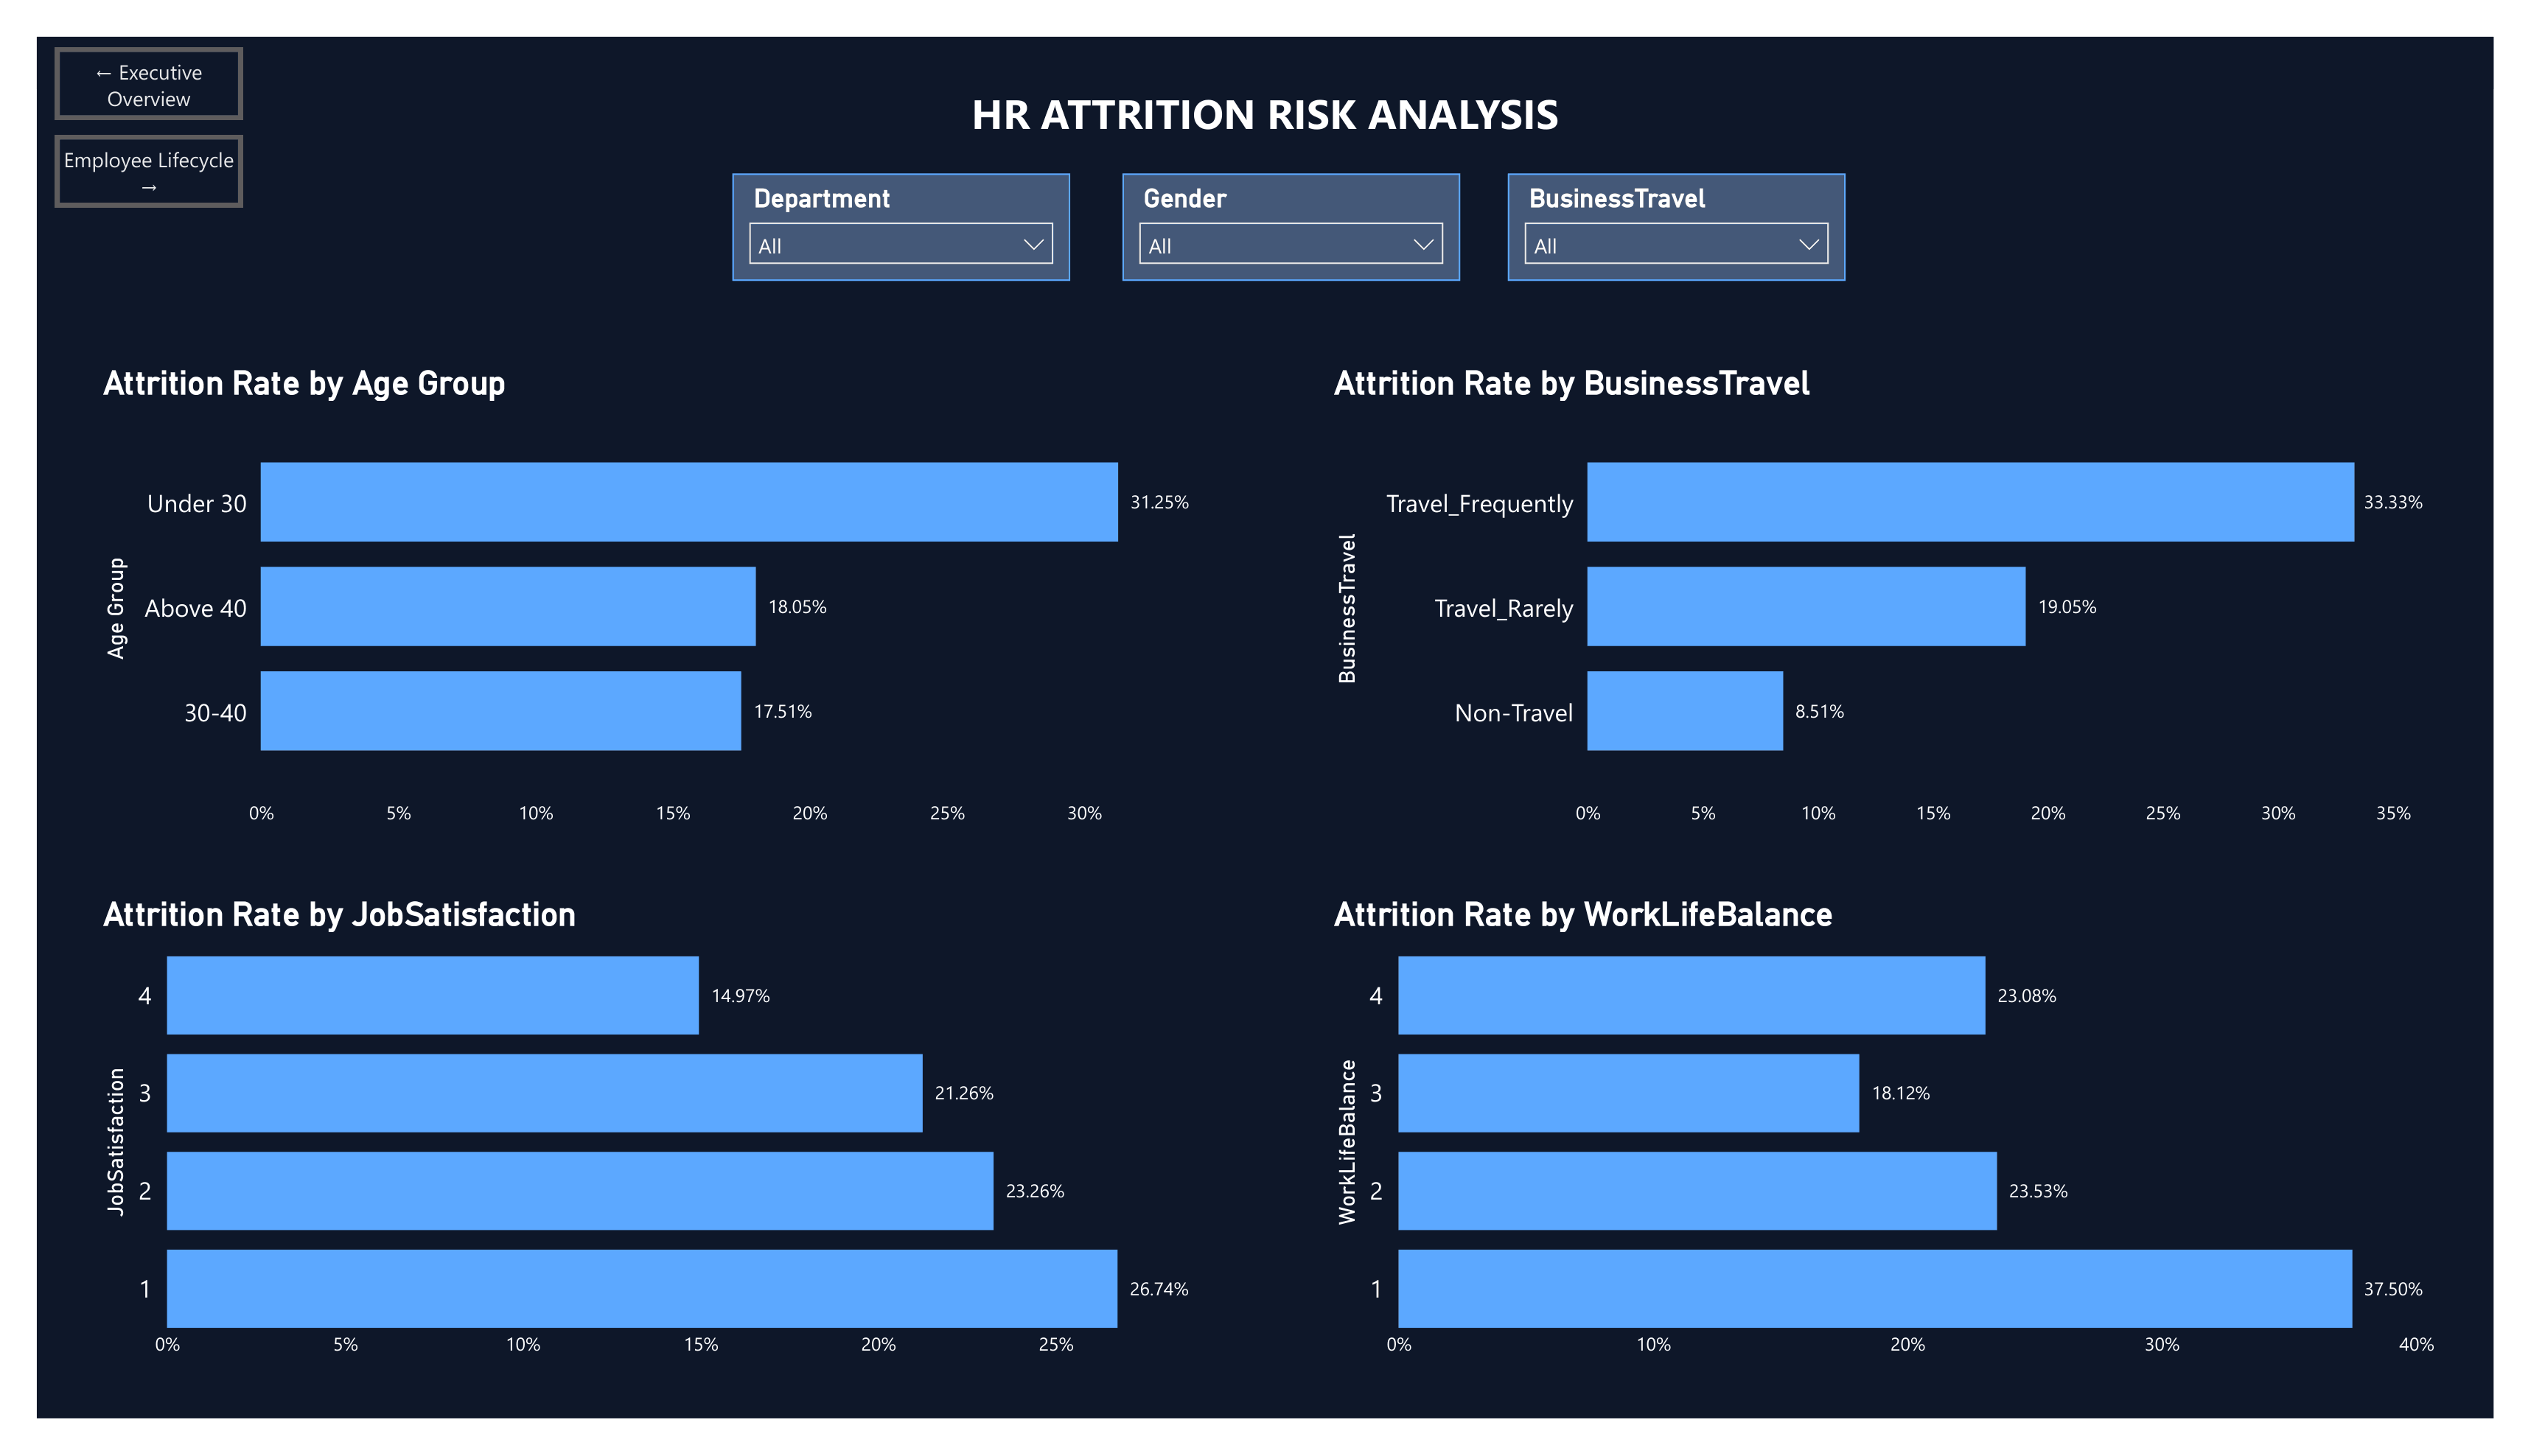

The dashboard page shown, as its layout file describes it:
{"tool":"powerbi","page":{"name":"Risk Analysis","canvas":[1600,900],"ordinal":1},"visuals":[{"type":"slicer","fields":{"Values":["employees.Department"]},"box":[453.2,89.3,220,70],"z":0},{"type":"slicer","fields":{"Values":["employees.Gender"]},"box":[707,89,220,70],"z":1000},{"type":"slicer","fields":{"Values":["employees.BusinessTravel"]},"box":[958.2,89,220,70],"z":2000},{"type":"clusteredBarChart","fields":{"Y":["employees.Attrition Rate"],"Category":["employees.Age Group"]},"box":[38.2,213.5,730.7,310.7],"z":3000},{"type":"clusteredBarChart","fields":{"Y":["employees.Attrition Rate"],"Category":["employees.BusinessTravel"]},"box":[840.1,213.5,730.7,310.7],"z":4000},{"type":"clusteredBarChart","fields":{"Y":["employees.Attrition Rate"],"Category":["employees.JobSatisfaction"]},"box":[38.2,558.9,730.7,310.7],"z":5000},{"type":"clusteredBarChart","fields":{"Y":["employees.Attrition Rate"],"Category":["employees.WorkLifeBalance"]},"box":[840.1,558.9,730.7,310.7],"z":6000},{"type":"textbox","box":[0,26,1600.4,57.3],"z":7000},{"type":"actionButton","box":[12.2,6.9,121.5,46.9],"z":8000},{"type":"actionButton","box":[12.2,64.2,121.5,46.9],"z":9000}]}

Visuals, with their boxes on the page's 1600x900 design canvas (x1, y1, x2, y2). These are canvas units, not pixel positions in the 2531x1456 screenshot, which may show the page scaled, cropped or inside an application window:
slicer - employees.Department: (453, 89, 673, 159)
slicer - employees.Gender: (707, 89, 927, 159)
slicer - employees.BusinessTravel: (958, 89, 1178, 159)
clusteredBarChart - employees.Attrition Rate x employees.Age Group: (38, 214, 769, 524)
clusteredBarChart - employees.Attrition Rate x employees.BusinessTravel: (840, 214, 1571, 524)
clusteredBarChart - employees.Attrition Rate x employees.JobSatisfaction: (38, 559, 769, 870)
clusteredBarChart - employees.Attrition Rate x employees.WorkLifeBalance: (840, 559, 1571, 870)
textbox: (0, 26, 1600, 83)
actionButton: (12, 7, 134, 54)
actionButton: (12, 64, 134, 111)
